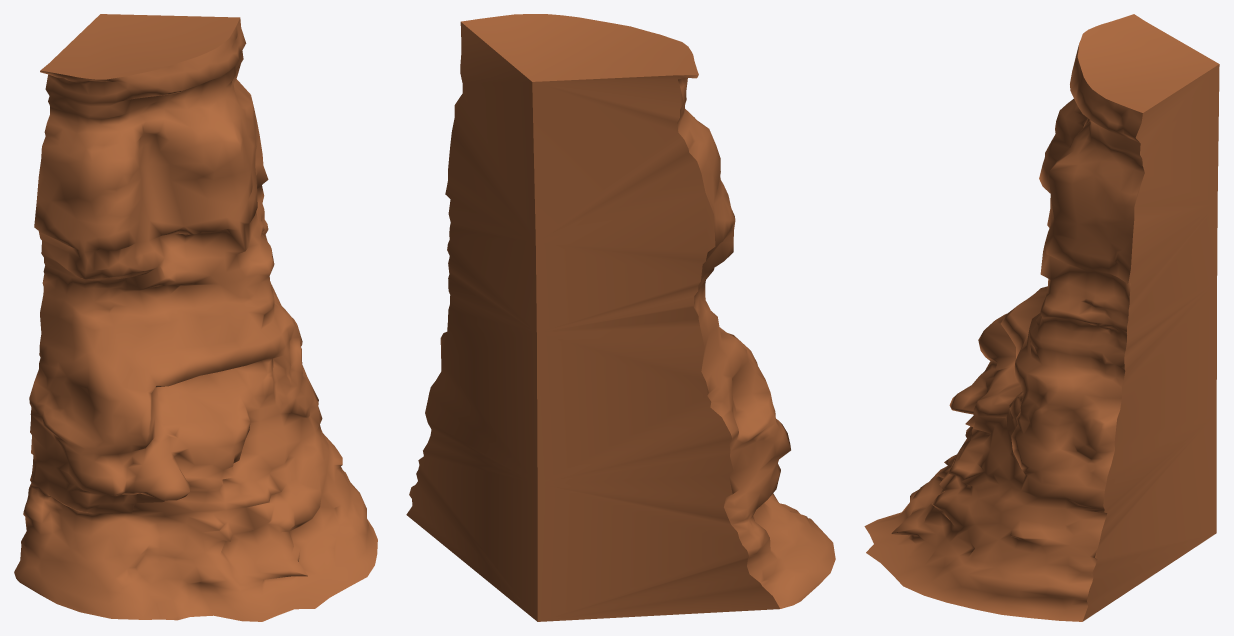
The model's file is MSH_Rocks_Cliff_04_d.FBX.
3 renders of one model, left to right at view 1: azimuth 30°, elevation 25°; view 2: azimuth 150°, elevation 25°; view 3: azimuth 270°, elevation 25°, orthographic. The views are drawn at different scales.
Parts seen in each view (by area): view 1: MESH_LOD0, CAP_LOD0; view 2: CAP_LOD0, MESH_LOD0; view 3: MESH_LOD0, CAP_LOD0.
Part boxes in pixels (<box>): MESH_LOD0: <box>14,18,377,621</box>; CAP_LOD0: <box>40,14,240,79</box>; CAP_LOD0: <box>406,14,779,621</box>; MESH_LOD0: <box>440,78,835,608</box>; MESH_LOD0: <box>864,45,1144,621</box>; CAP_LOD0: <box>1077,14,1219,621</box>.
Size of what is drawn, in the model's own units: 496 by 666 by 455.
